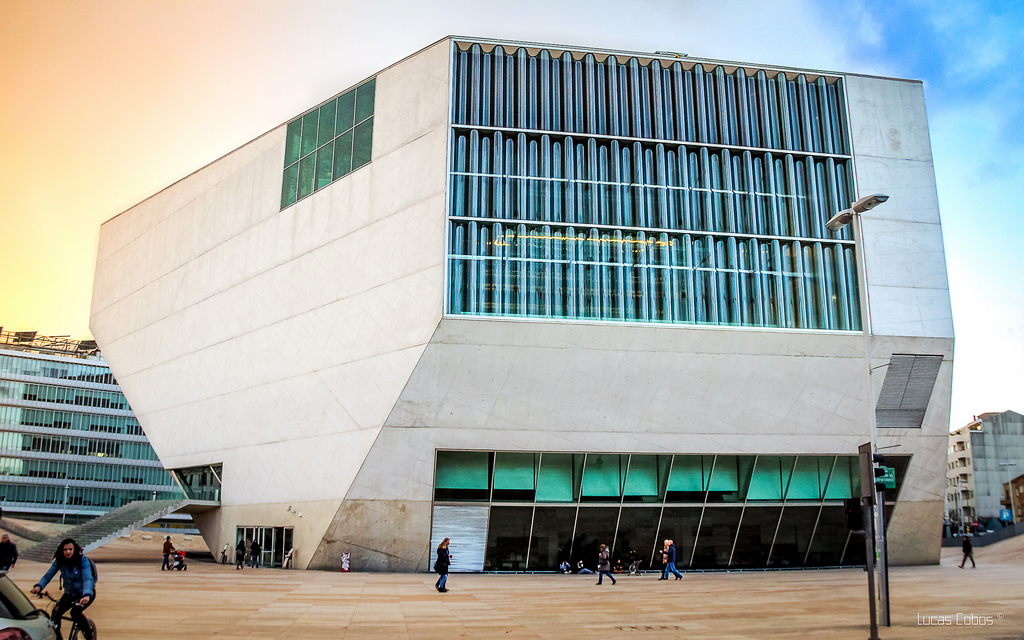musica: (86, 36, 956, 573)
